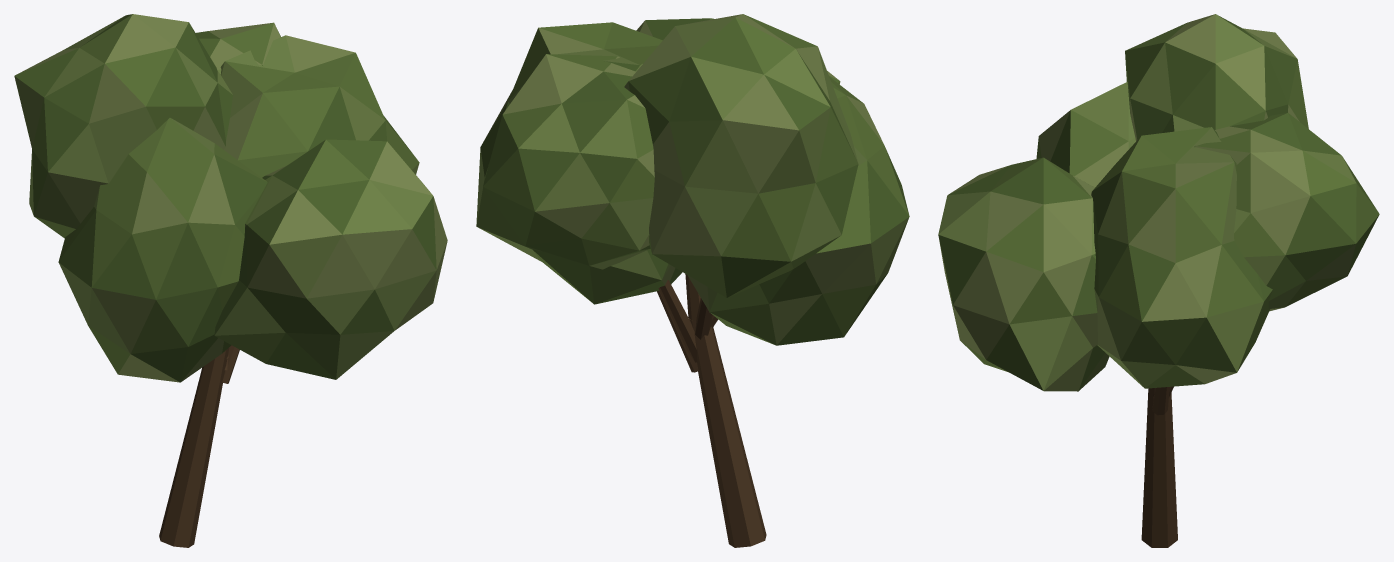
File: Tree04.obj
3 renders of one model, left to right at view 1: azimuth 30°, elevation 25°; view 2: azimuth 150°, elevation 25°; view 3: azimuth 270°, elevation 25°, orthographic. The views are drawn at different scales.
Visible parts, largest first — view 1: Crown.003, Trunk.003; view 2: Crown.003, Trunk.003; view 3: Crown.003, Trunk.003.
Part boxes in pixels (x1=…): Crown.003: x1=14, y1=14, x2=447, y2=382; Trunk.003: x1=159, y1=345, x2=239, y2=547; Crown.003: x1=476, y1=14, x2=909, y2=345; Trunk.003: x1=657, y1=274, x2=766, y2=547; Crown.003: x1=938, y1=14, x2=1379, y2=391; Trunk.003: x1=1141, y1=386, x2=1177, y2=547.
Bounding box in the file's own units: 5.04 × 7.04 × 5.42.
